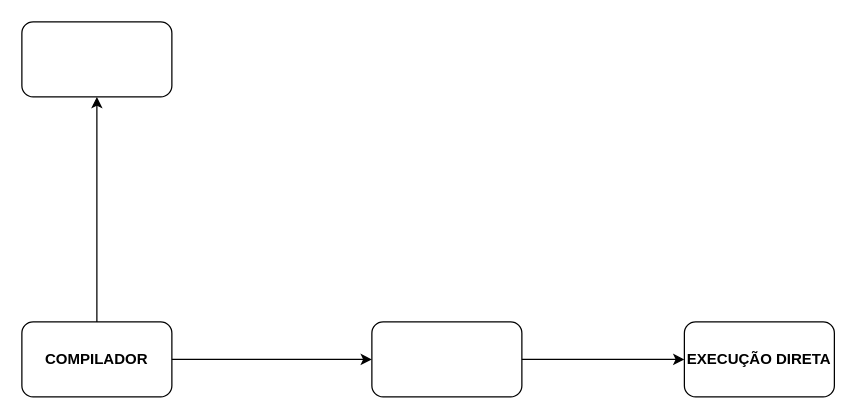
The diagram is 856 pixels wide and 419 high, and some of its shapes have lost their labels. The box of each missing label's shape, as (x1, y1, x2, y2) in pixels:
CÓDIGO DE MÁQUINA: (371, 321, 522, 397)
CÓDIGO FONTE: (21, 21, 172, 97)
